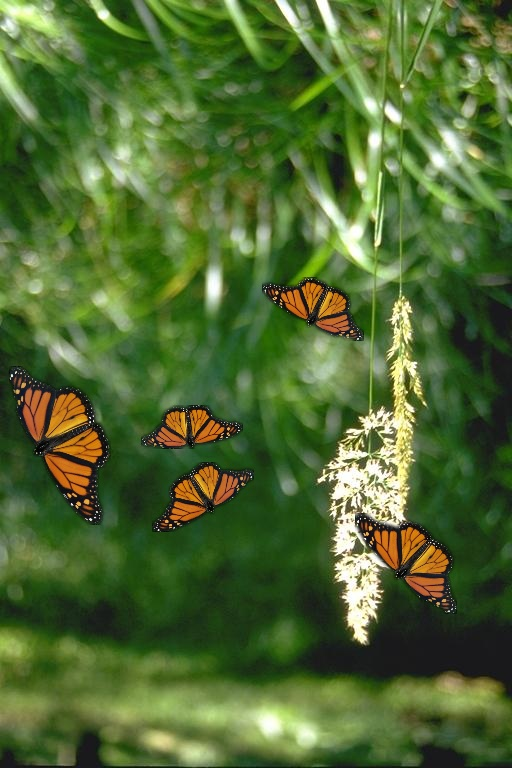danaus_plexippus: (9, 366, 111, 525), (355, 513, 457, 614), (152, 462, 254, 532), (262, 277, 364, 341), (141, 405, 243, 449)
